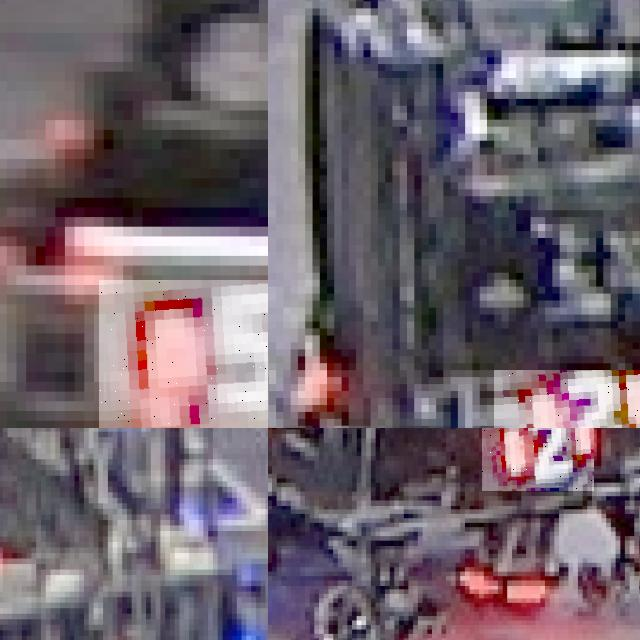R2: (276, 307, 356, 428), (494, 370, 640, 428), (481, 428, 594, 491)
R5: (99, 280, 268, 428)
